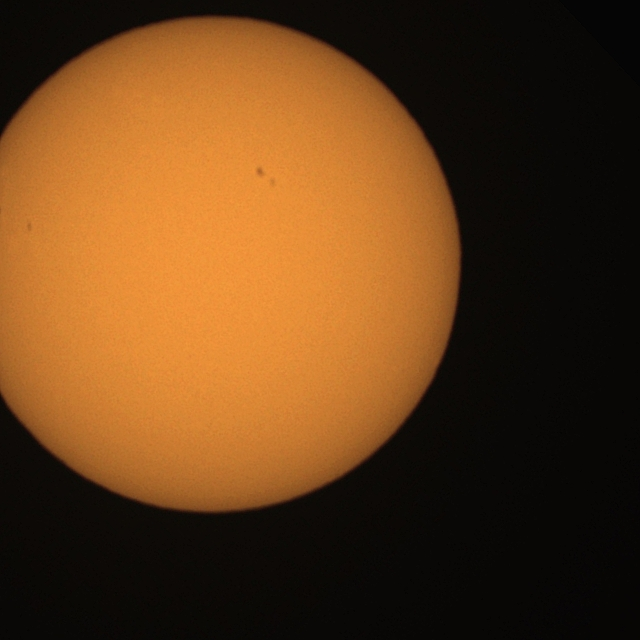sunspot: (254, 166, 278, 189)
